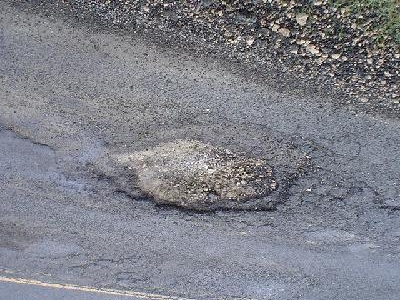pothole: (85, 131, 310, 218)
